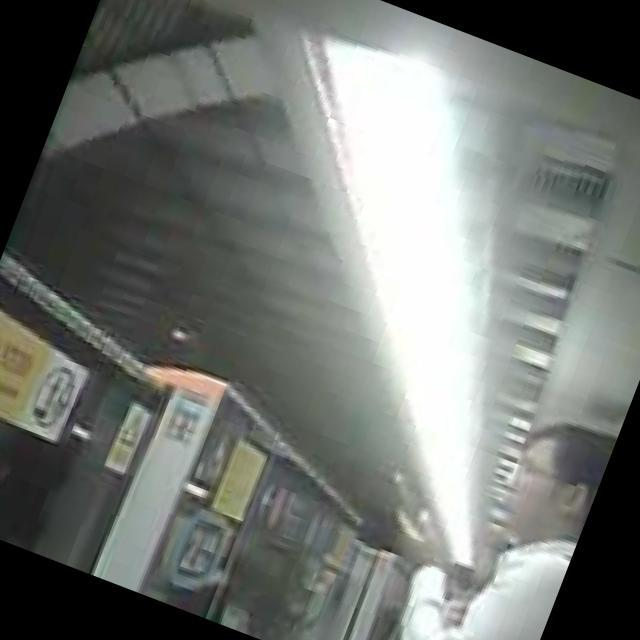person: (340, 376, 617, 640)
